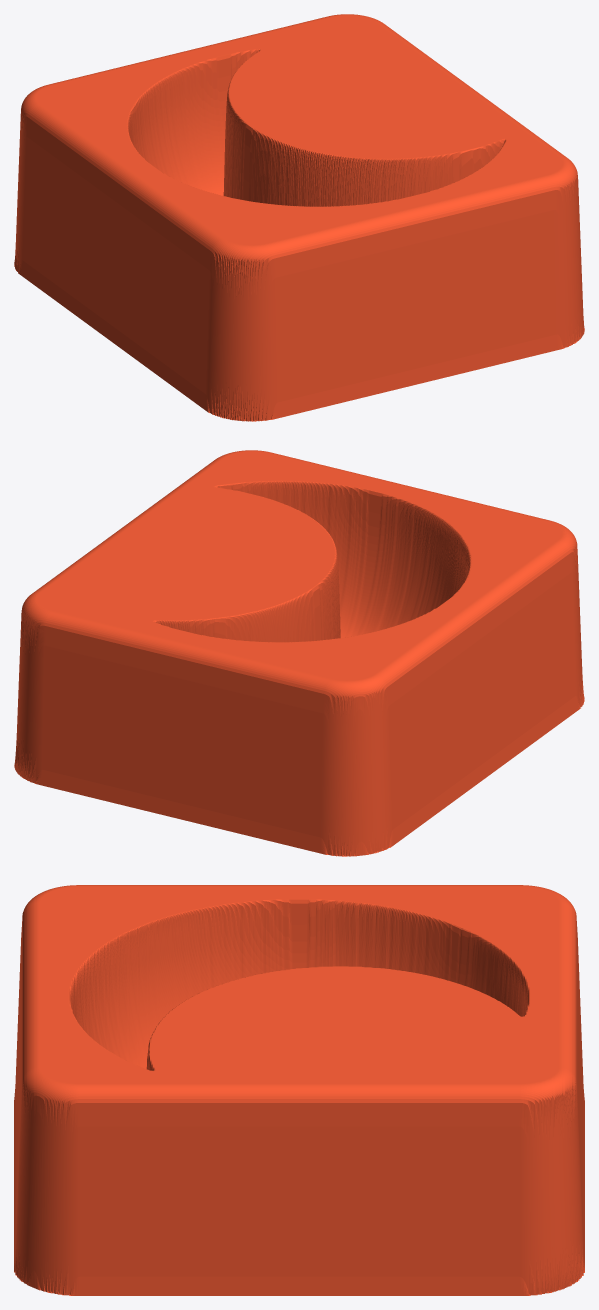
The model's file is mold.glb.
3 renders of one model, top to bottom at view 1: azimuth 30°, elevation 25°; view 2: azimuth 150°, elevation 25°; view 3: azimuth 270°, elevation 25°, orthographic. The views are drawn at different scales.
Parts seen in each view (by area): view 1: geometry_0; view 2: geometry_0; view 3: geometry_0.
Boxes of the visible parts, x1,y1,x2,y2 form: geometry_0: (14, 14, 584, 421); geometry_0: (14, 450, 584, 856); geometry_0: (14, 885, 584, 1295).
Size of the model in its own units: 0.0724 by 0.031 by 0.0798.
